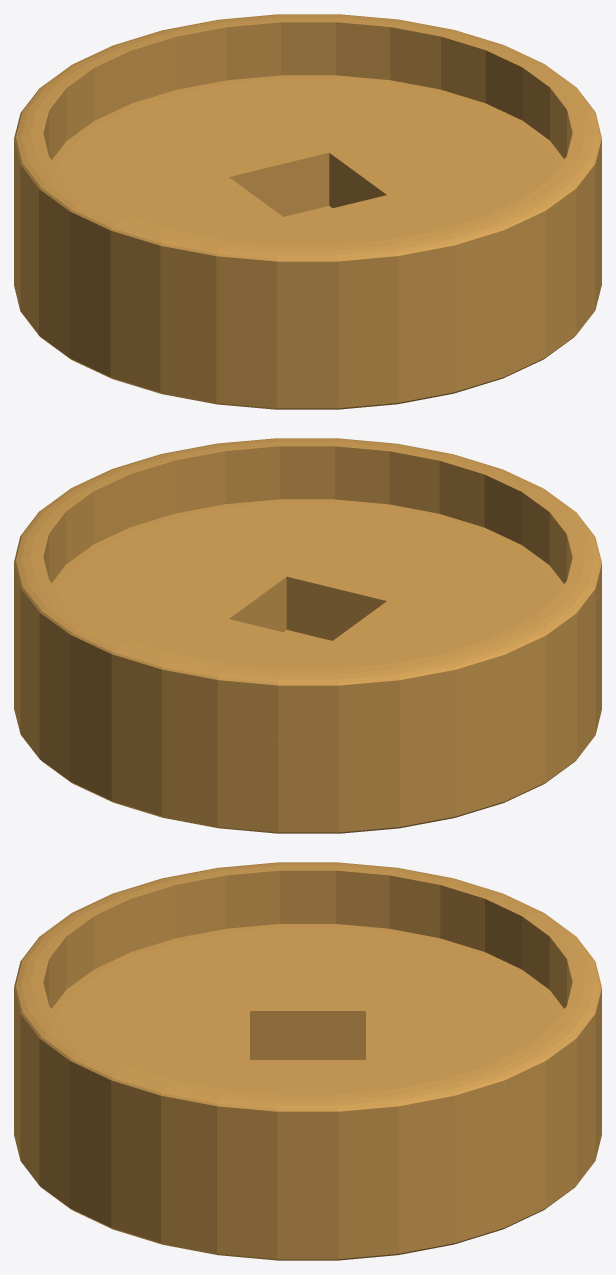
File: RadiOpi Button plain Make.glb
3 views of the same model, one above another, from view 1: azimuth 30°, elevation 25°; view 2: azimuth 150°, elevation 25°; view 3: azimuth 270°, elevation 25° (orthographic).
Visible parts, largest first — view 1: Mesh_Mesh_head_geo.001_lambert2SG.001; view 2: Mesh_Mesh_head_geo.001_lambert2SG.001; view 3: Mesh_Mesh_head_geo.001_lambert2SG.001.
Part boxes in pixels (box(x1,y1,x2,y2)): Mesh_Mesh_head_geo.001_lambert2SG.001: box(14, 14, 601, 409); Mesh_Mesh_head_geo.001_lambert2SG.001: box(14, 438, 601, 833); Mesh_Mesh_head_geo.001_lambert2SG.001: box(14, 862, 601, 1260).
Size of the model in its own units: 20 by 5.99 by 20.
